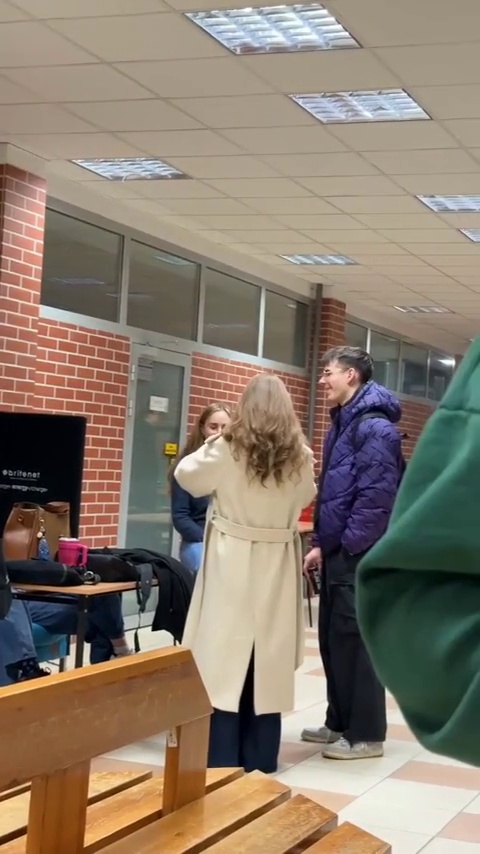no vest: (182, 364, 312, 731), (315, 341, 408, 733)
